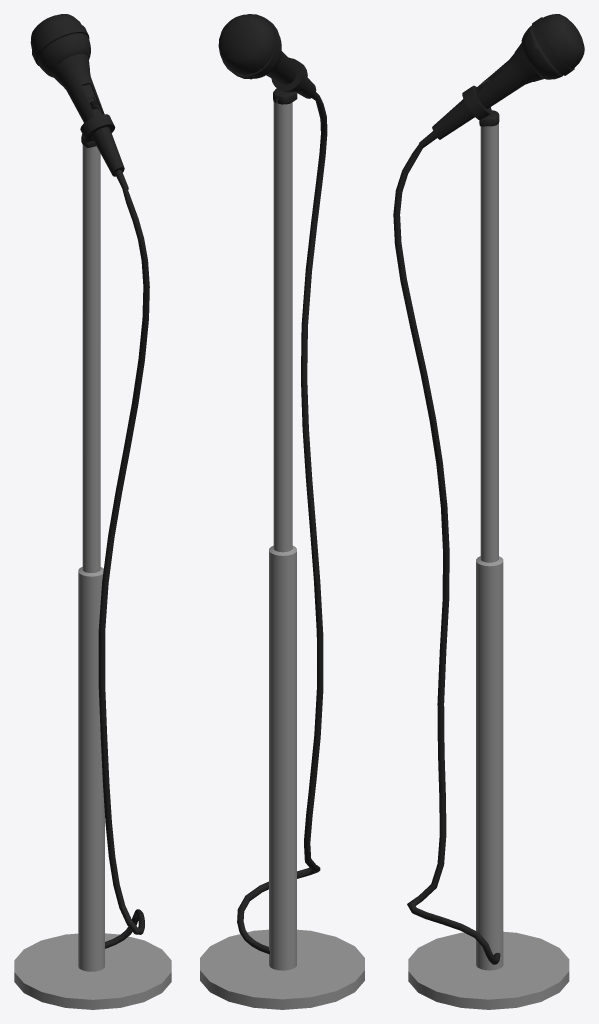
File: Microphone.FBX
3 renders of one model, left to right at view 1: azimuth 30°, elevation 25°; view 2: azimuth 150°, elevation 25°; view 3: azimuth 270°, elevation 25°, orthographic. The views are drawn at different scales.
Parts seen in each view (by area): view 1: Microphone; view 2: Microphone; view 3: Microphone.
Part boxes in pixels (left/top/right/bottom): Microphone: left=14, top=14, right=171, bottom=1009; Microphone: left=200, top=14, right=364, bottom=1009; Microphone: left=393, top=14, right=584, bottom=1009.
Bounding box in the file's own units: 16.5 × 107 × 19.33.
Materials: 2 (1 with a texture image).
